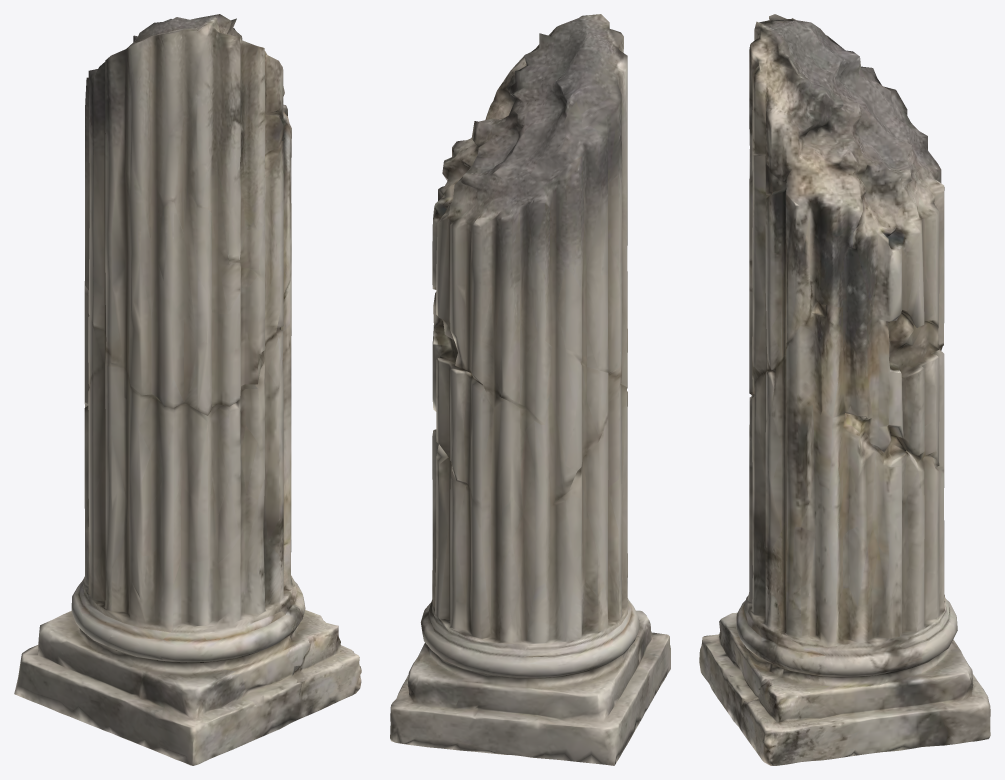
Rendered from column.glb.
3 views of the same model, side by side, from view 1: azimuth 30°, elevation 25°; view 2: azimuth 150°, elevation 25°; view 3: azimuth 270°, elevation 25° (orthographic). The views are drawn at different scales.
Visible parts, largest first — view 1: tripo_node_2c855de4-0c11-4a66-947c-66b368d1a311; view 2: tripo_node_2c855de4-0c11-4a66-947c-66b368d1a311; view 3: tripo_node_2c855de4-0c11-4a66-947c-66b368d1a311.
Boxes of the visible parts, x1=… form: tripo_node_2c855de4-0c11-4a66-947c-66b368d1a311: x1=14, y1=14, x2=361, y2=765; tripo_node_2c855de4-0c11-4a66-947c-66b368d1a311: x1=390, y1=14, x2=670, y2=765; tripo_node_2c855de4-0c11-4a66-947c-66b368d1a311: x1=699, y1=14, x2=990, y2=765.
Bounding box in the file's own units: 0.3898 × 1 × 0.3932.
1 material, 1 textured.
